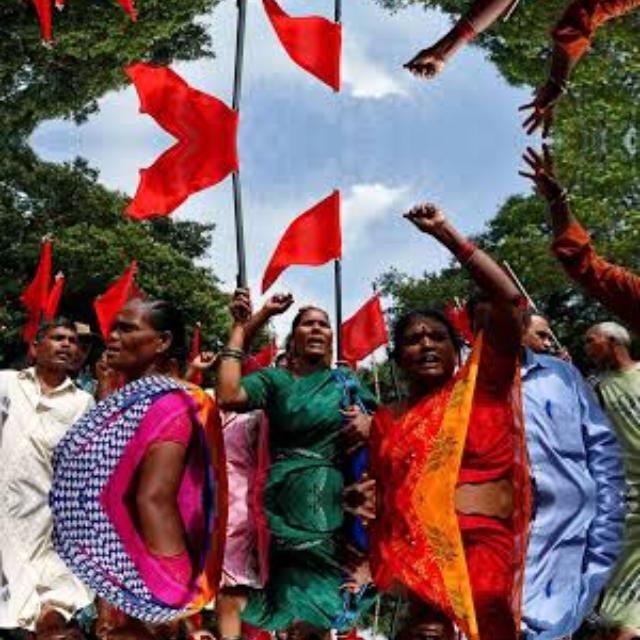person: (366, 300, 504, 498), (78, 300, 202, 498), (258, 290, 356, 498), (366, 498, 504, 640), (78, 498, 202, 640), (10, 306, 94, 498), (258, 498, 355, 640), (10, 498, 94, 640)
